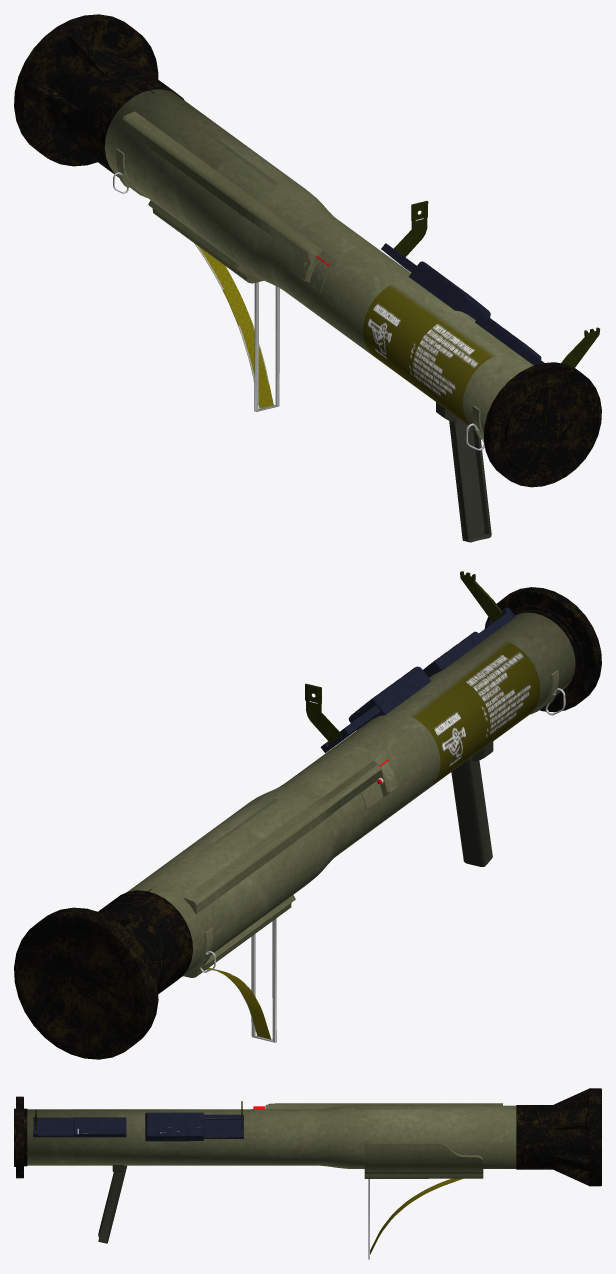
3 renders of one model, top to bottom at view 1: azimuth 30°, elevation 25°; view 2: azimuth 150°, elevation 25°; view 3: azimuth 270°, elevation 25°, orthographic. The views are drawn at different scales.
Visible parts, largest first — view 1: O_at4__Body; view 2: O_at4__Body; view 3: O_at4__Body.
Boxes of the visible parts, <box> form: O_at4__Body: <box>14,14,601,542</box>; O_at4__Body: <box>14,571,601,1059</box>; O_at4__Body: <box>14,1088,601,1259</box>.
Size of the model in its own units: 0.484 by 0.9036 by 2.86.
Materials: 1 (1 with a texture image).
